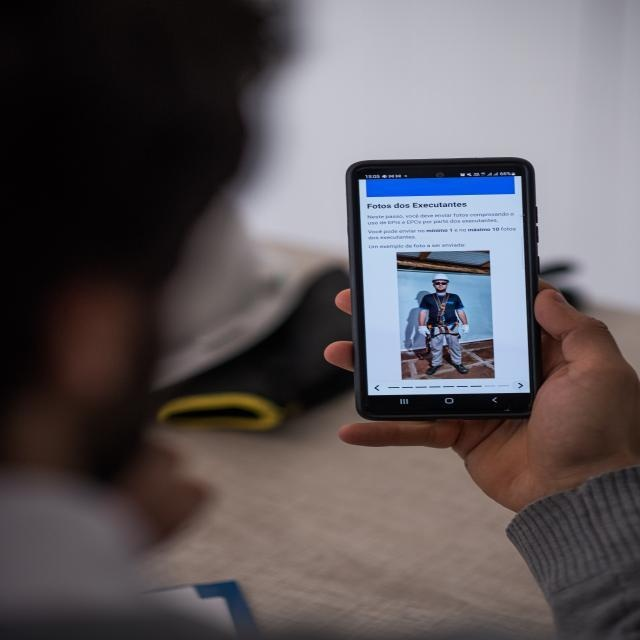Arnes_seguridad: (428, 289, 459, 337)
